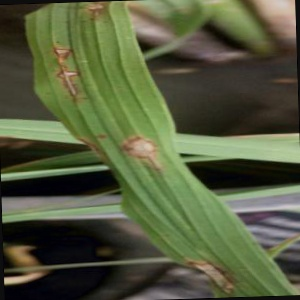Brown_Spot: (119, 118, 170, 180), (65, 126, 129, 174), (179, 247, 237, 298), (37, 36, 93, 74), (52, 61, 94, 99), (80, 3, 115, 21)
